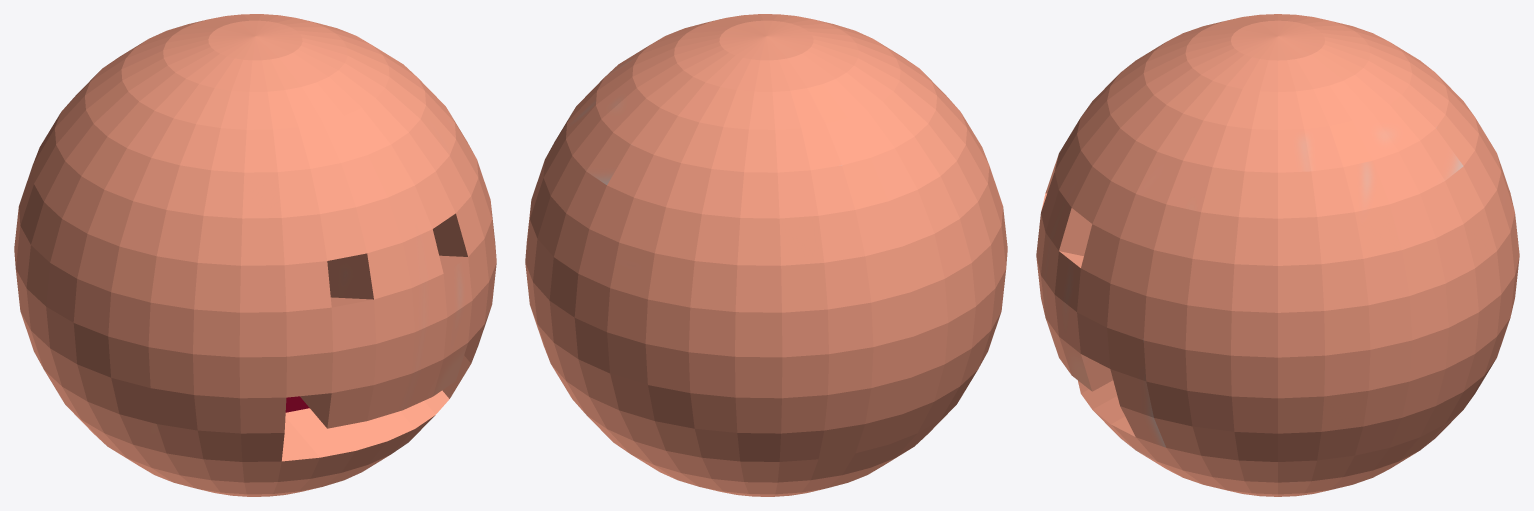
Rendered from PotatoHead.fbx.
3 renders of one model, left to right at view 1: azimuth 30°, elevation 25°; view 2: azimuth 150°, elevation 25°; view 3: azimuth 270°, elevation 25°, orthographic.
Visible parts, largest first — view 1: Sphere; view 2: Sphere; view 3: Sphere.
Part boxes in pixels (box(x1,y1,x2,y2)): Sphere: box(14, 14, 496, 496); Sphere: box(525, 14, 1007, 496); Sphere: box(1036, 14, 1519, 496).
Size of the model in its own units: 200 by 200 by 200.
Materials: 1 (1 with a texture image).
